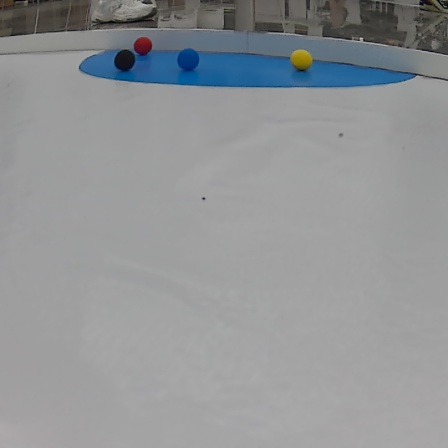black: (115, 46, 136, 73)
blue: (174, 49, 202, 70)
blue_base: (79, 44, 420, 90)
red: (132, 37, 155, 58)
yellow: (287, 50, 317, 71)
